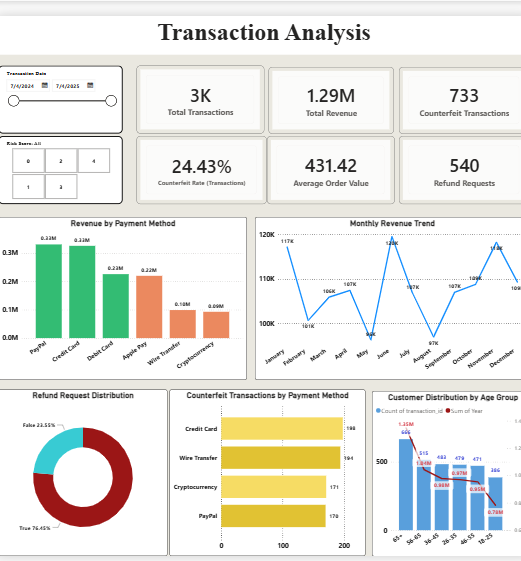

What the dashboard file says about the page in this screenshot:
{"tool":"powerbi","page":{"name":"Transaction Analysis","canvas":[1200,1200],"ordinal":2},"visuals":[{"type":"textbox","box":[9.5,0,1180.2,85.9],"z":0},{"type":"cardVisual","fields":{"Data":["transcation.Total Transactions"]},"box":[315.2,109.4,283.9,151.1],"z":1000},{"type":"cardVisual","fields":{"Data":["transcation.Total Revenue"]},"box":[609.6,114.6,278.7,148.5],"z":2000},{"type":"cardVisual","fields":{"Data":["transcation.Counterfeit Transactions"]},"box":[901.3,112,289.2,148.5],"z":3000},{"type":"cardVisual","fields":{"Data":["transcation.Counterfeit Rate (Transactions)"]},"box":[315.2,268.3,289.2,151.1],"z":4000},{"type":"cardVisual","fields":{"Data":["transcation.Average Order Value"]},"box":[607,268.3,283.9,151.1],"z":5000},{"type":"cardVisual","fields":{"Data":["transcation.Refund Requests"]},"box":[901.3,268.3,289.2,151.1],"z":6000},{"type":"clusteredColumnChart","title":"Revenue by Payment Method","fields":{"Category":["transcation.payment_method"],"Y":["Sum(transcation.total_amount)"]},"box":[10.4,445.5,552.3,362.1],"z":7000},{"type":"clusteredBarChart","title":"Counterfeit Transactions by Payment Method","fields":{"Y":["transcation.Counterfeit Transactions"],"Category":["transcation.payment_method"]},"box":[390.7,831,435,369.9],"z":8000},{"type":"lineStackedColumnComboChart","title":"Customer Distribution by Age Group","fields":{"Category":["transcation.age_group"],"Y":["CountNonNull(transcation.transaction_id)"],"Y2":["Sum(transcation.Year)"]},"box":[841.4,833.6,359.5,367.3],"z":9000},{"type":"lineChart","title":"Monthly Revenue Trend","fields":{"Category":["transcation.transaction_date.Variation.Date Hierarchy.Month"],"Y":["Sum(transcation.total_amount)"]},"box":[580.9,445.5,609.6,362.1],"z":10000},{"type":"donutChart","title":"Refund Request Distribution","fields":{"Y":["transcation.Counterfeit Rate (Transactions)"],"Category":["transcation.refund_requested"]},"box":[10.4,831,375.1,369.9],"z":11000},{"type":"slicer","fields":{"Values":["transcation.transaction_date"]},"box":[10.4,109.4,276.1,151.1],"z":12000},{"type":"slicer","fields":{"Values":["transcation.risk_score"]},"box":[10.4,268.3,276.1,151.1],"z":13000}]}

Visuals, with their boxes on the page's 1200x1200 design canvas (x1, y1, x2, y2). These are canvas units, not pixel positions in the 521x561 screenshot, which may show the page scaled, cropped or inside an application window:
textbox: <region>10, 0, 1190, 86</region>
cardVisual - transcation.Total Transactions: <region>315, 109, 599, 260</region>
cardVisual - transcation.Total Revenue: <region>610, 115, 888, 263</region>
cardVisual - transcation.Counterfeit Transactions: <region>901, 112, 1190, 260</region>
cardVisual - transcation.Counterfeit Rate (Transactions): <region>315, 268, 604, 419</region>
cardVisual - transcation.Average Order Value: <region>607, 268, 891, 419</region>
cardVisual - transcation.Refund Requests: <region>901, 268, 1190, 419</region>
"Revenue by Payment Method" clusteredColumnChart: <region>10, 446, 563, 808</region>
"Counterfeit Transactions by Payment Method" clusteredBarChart: <region>391, 831, 826, 1201</region>
"Customer Distribution by Age Group" lineStackedColumnComboChart: <region>841, 834, 1201, 1201</region>
"Monthly Revenue Trend" lineChart: <region>581, 446, 1190, 808</region>
"Refund Request Distribution" donutChart: <region>10, 831, 386, 1201</region>
slicer - transcation.transaction_date: <region>10, 109, 286, 260</region>
slicer - transcation.risk_score: <region>10, 268, 286, 419</region>
